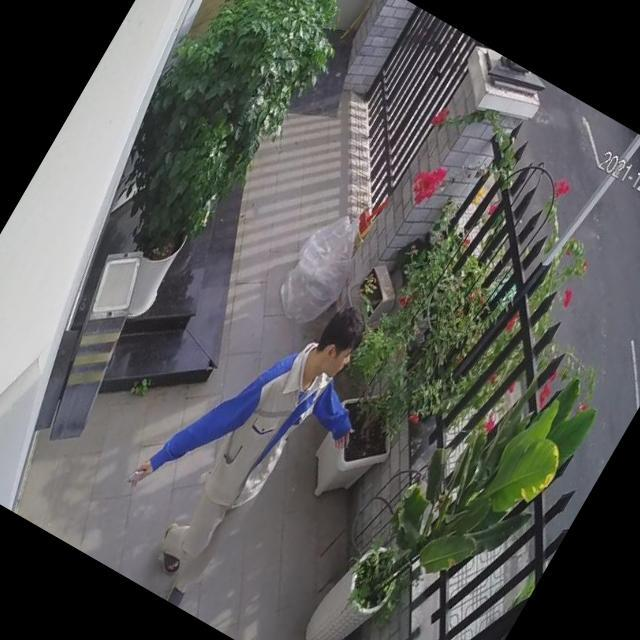person: (86, 252, 408, 640)
